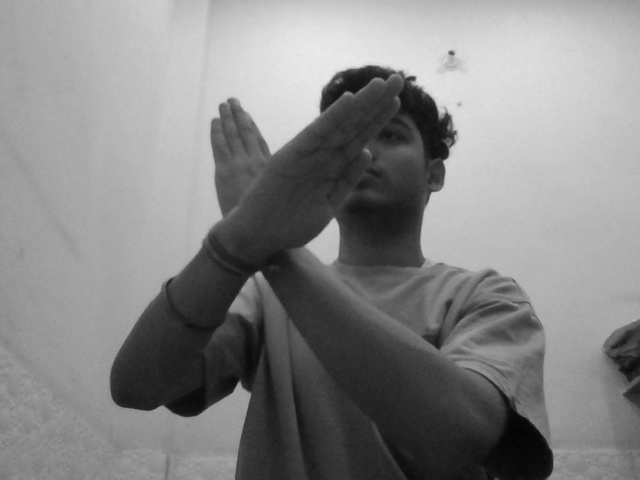No: (189, 68, 417, 271)
